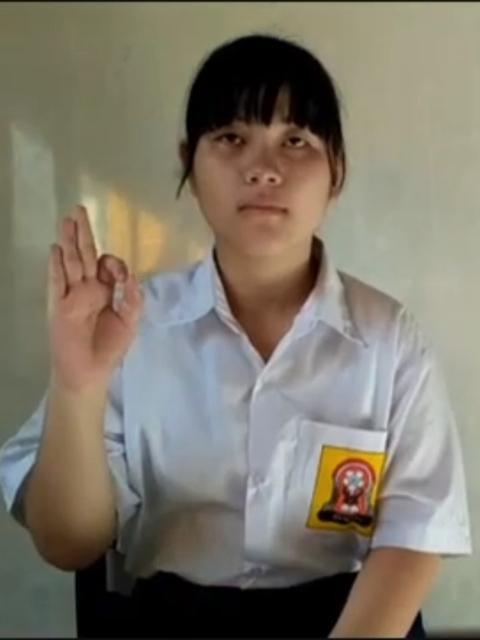F: (46, 202, 146, 386)
